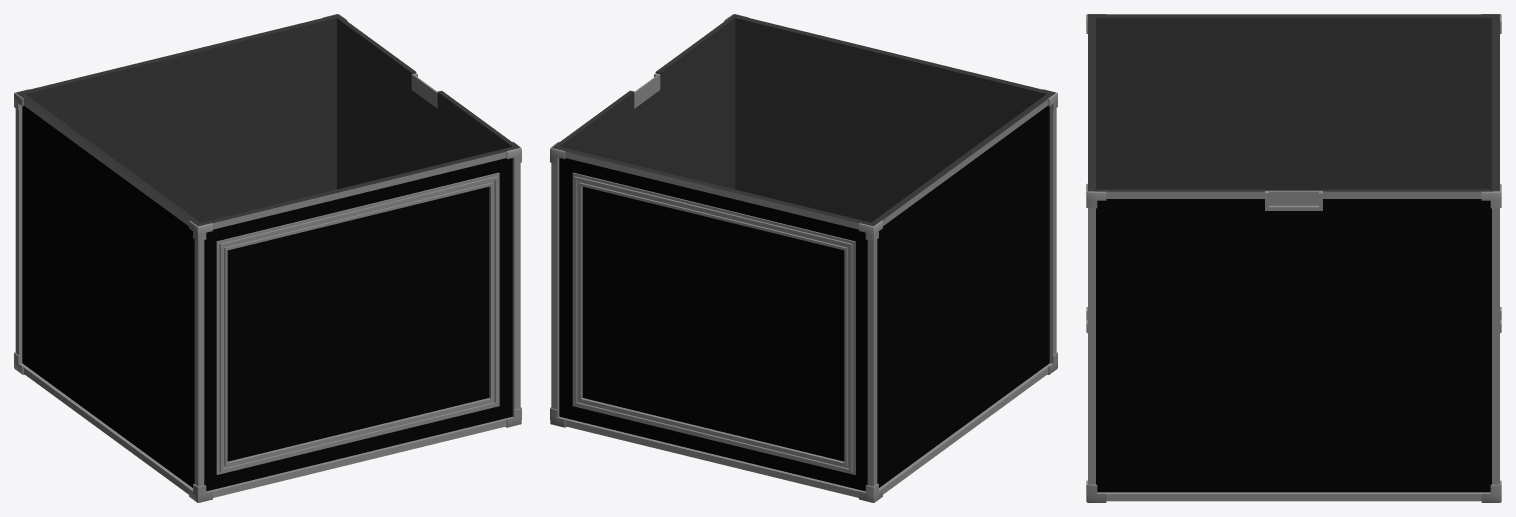
Rendered from StorageCrate_09.glb.
The picture shows the model from 3 angles, left to right: view 1: azimuth 30°, elevation 25°; view 2: azimuth 150°, elevation 25°; view 3: azimuth 270°, elevation 25°; orthographic projection. The views are drawn at different scales.
Parts seen in each view (by area): view 1: Mesh_StorageCrate_09; view 2: Mesh_StorageCrate_09; view 3: Mesh_StorageCrate_09.
Part boxes in pixels (bbox=[...]): Mesh_StorageCrate_09: bbox=[14, 14, 521, 502]; Mesh_StorageCrate_09: bbox=[550, 14, 1057, 502]; Mesh_StorageCrate_09: bbox=[1086, 14, 1501, 502].
Size of the model in its own units: 1 by 0.8155 by 0.9853.
1 material, 1 textured.
